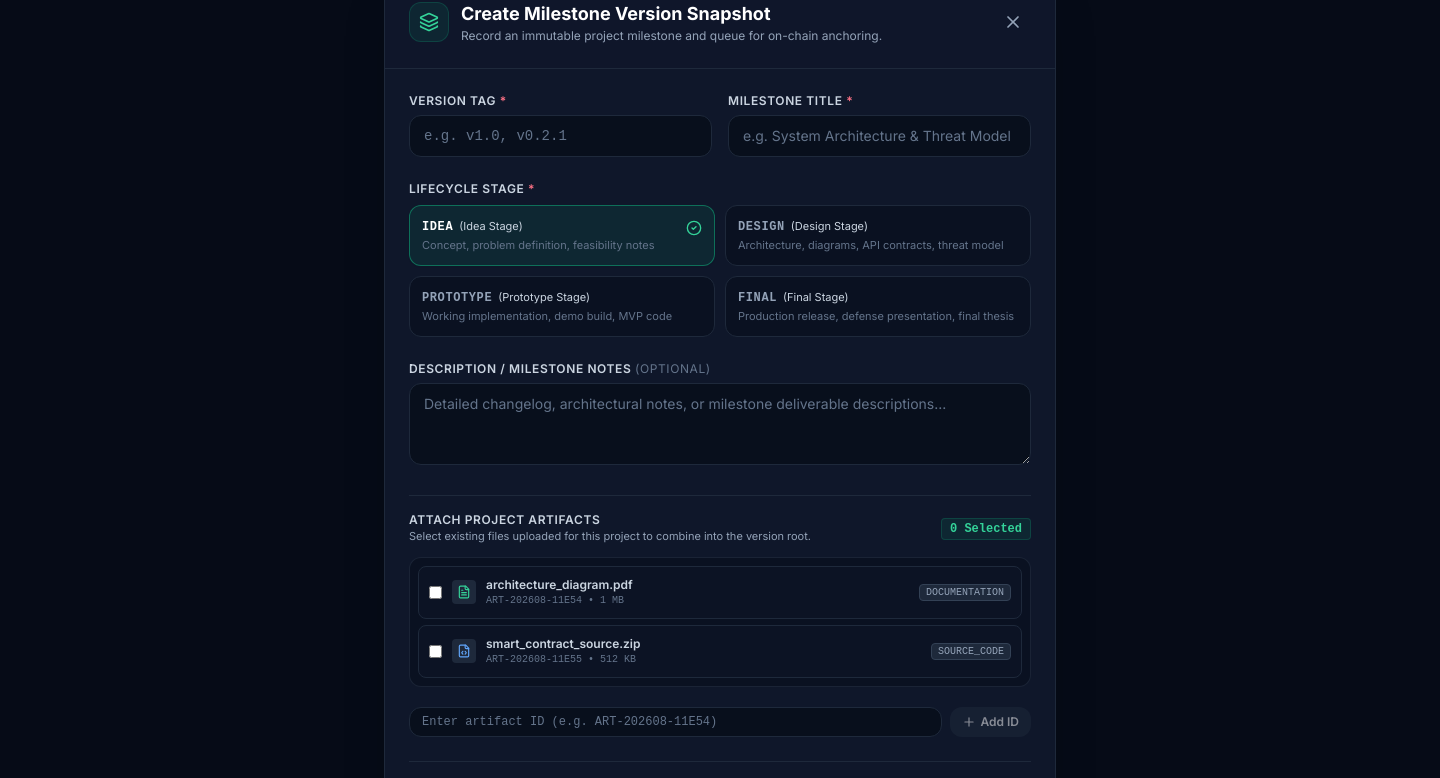
Test: Project Versions & Milestones Frontend Module Tests › CreateVersionModal — Creation Workflow & Validation › allows artifact selection from checklist and manual artifact ID entry
Expected: the text "0 Selected" is shown, [941,518,1031,540]
Check first artifact
Click the 1st checkbox. click: click(436, 592)
box: [429,586,442,599]
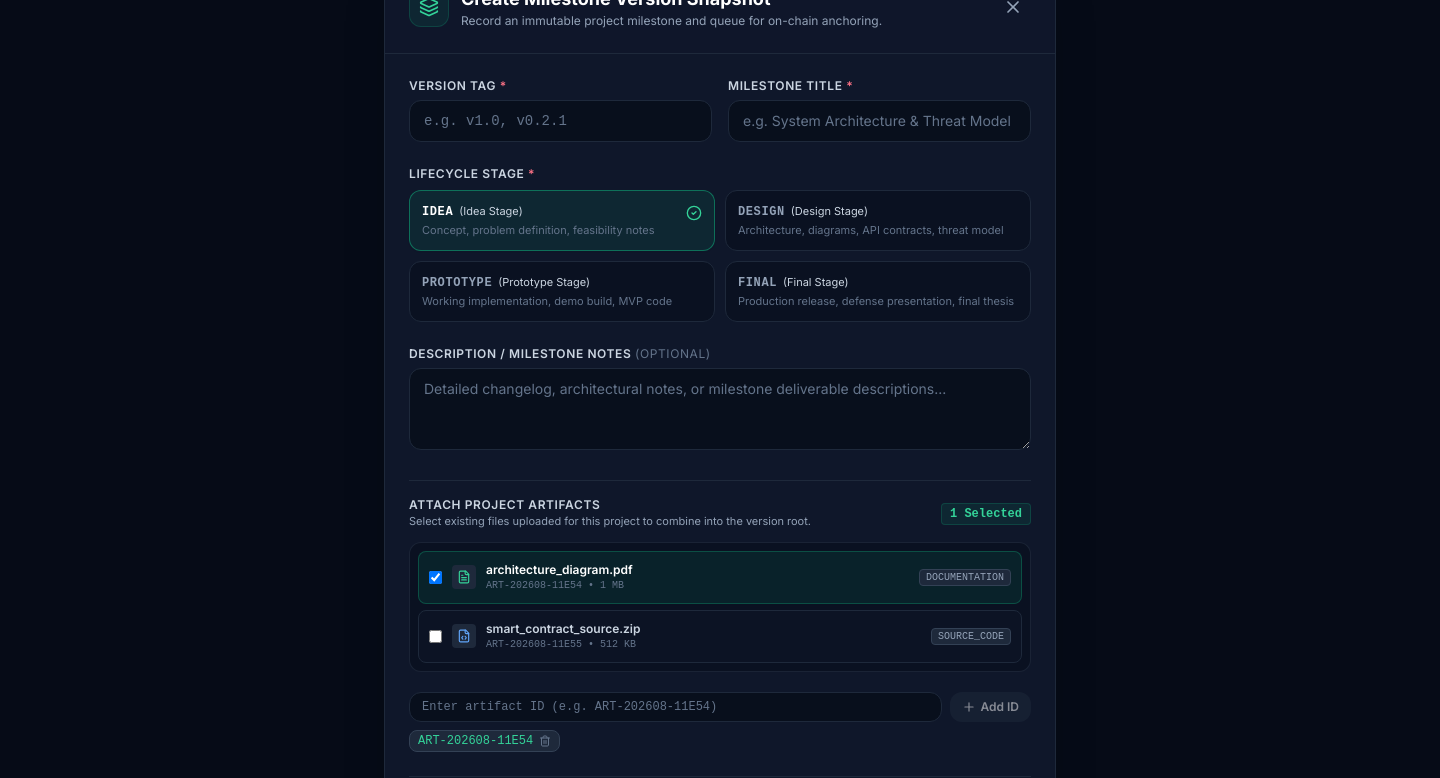
Result: the text "1 Selected" is shown at [941,502,1031,524]
Add a manual artifact ID
Type "ART-202609-CUSTOM1" into the field with placeholder "Enter artifact ID (e.g. ART-202608-11E54)". click: (676, 707)
box: [409,692,942,722]
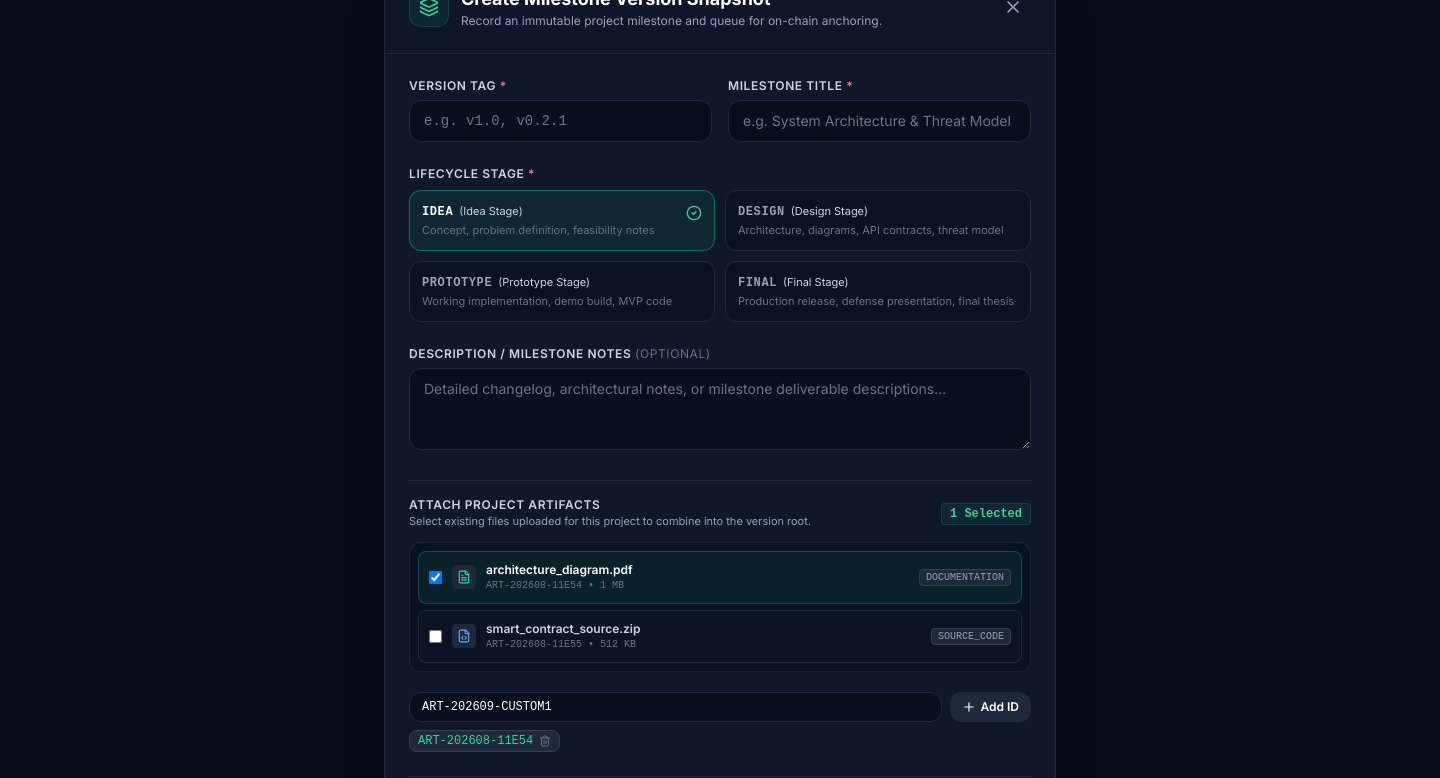
Click the button "Add ID". click: click(991, 707)
box: [950,692,1031,722]
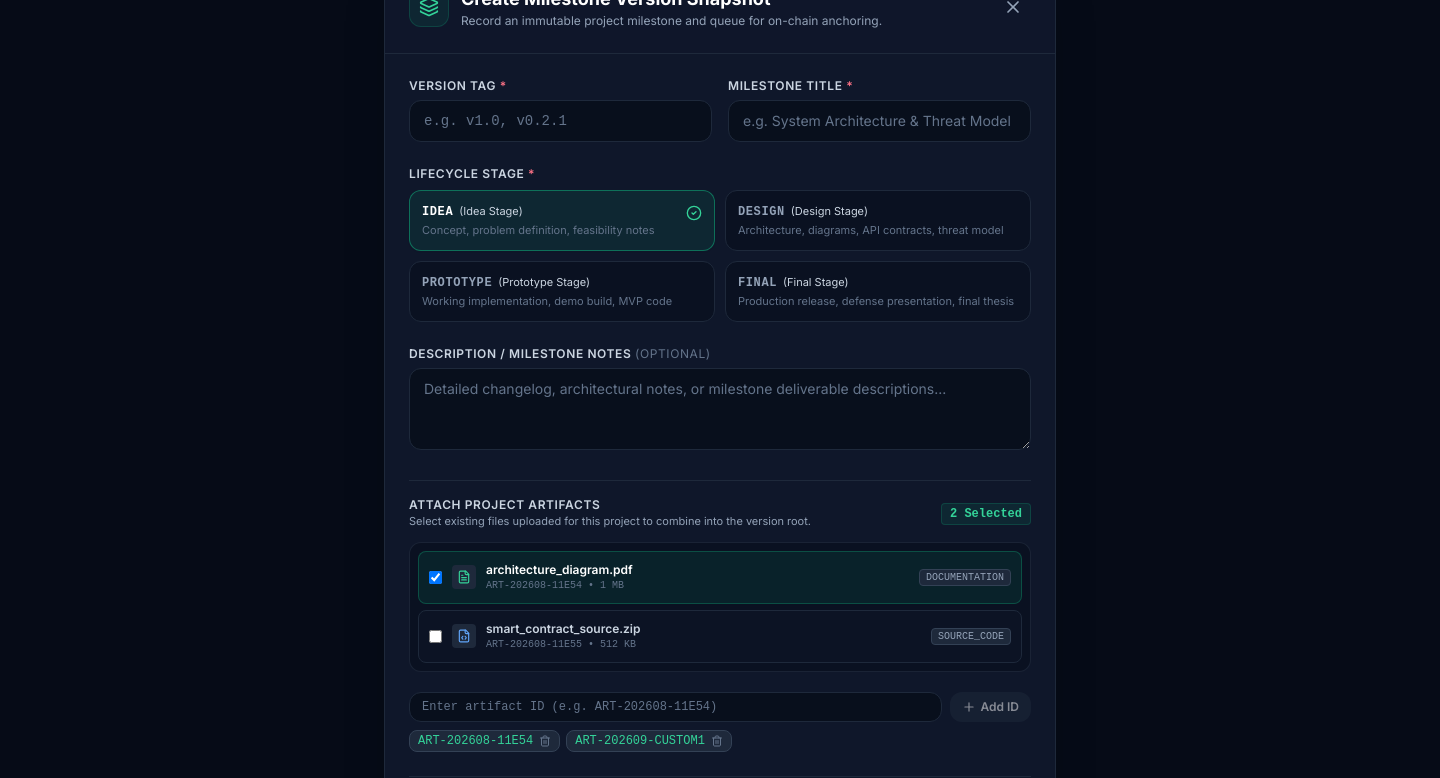
Result: the text "2 Selected" is shown at [941,502,1031,524]
Result: the text "ART-202609-CUSTOM1" is shown at [575,733,705,749]
Remove the manual ID
Click the button named "Remove artifact ART-202609-CUSTOM1". click: click(717, 741)
box: [711,735,723,747]
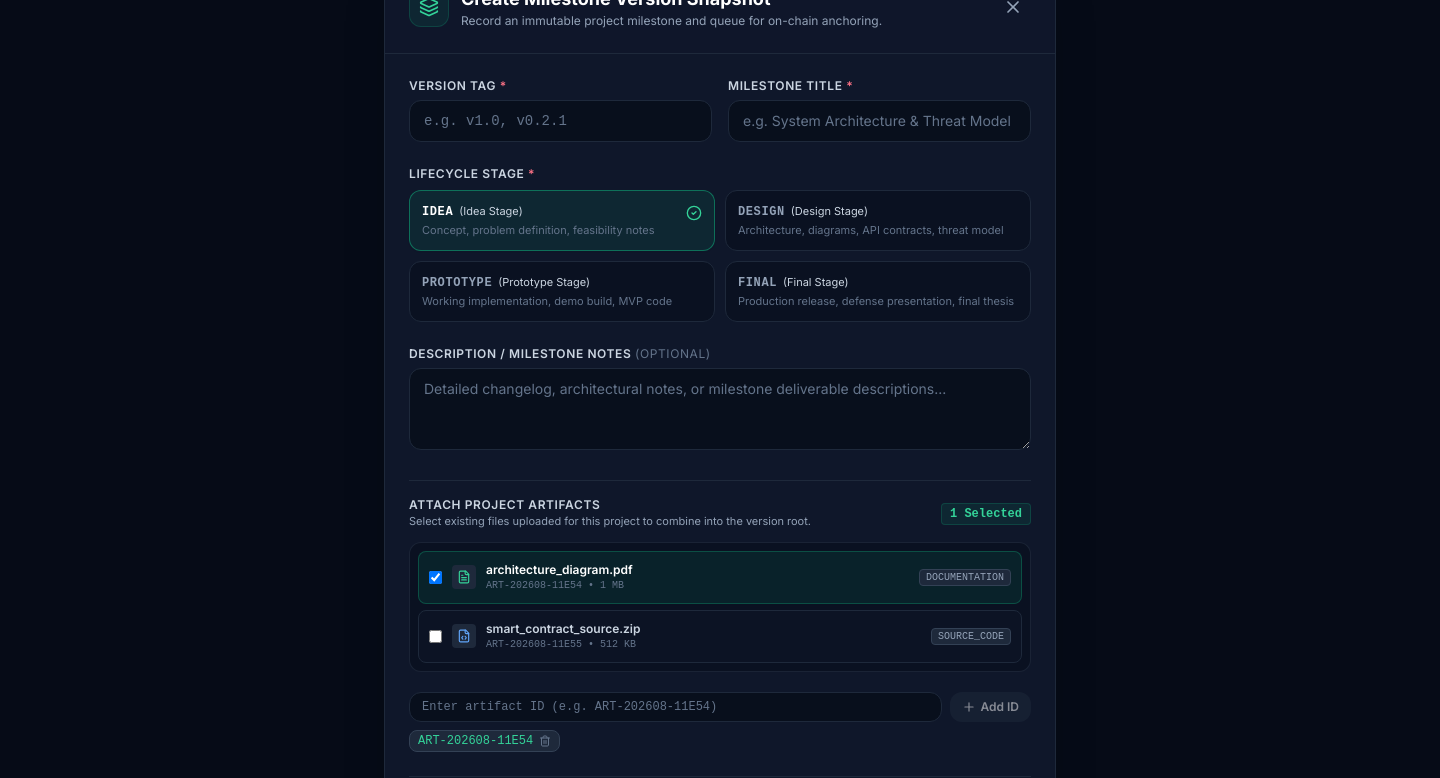
Result: the text "1 Selected" is shown at [941,502,1031,524]
